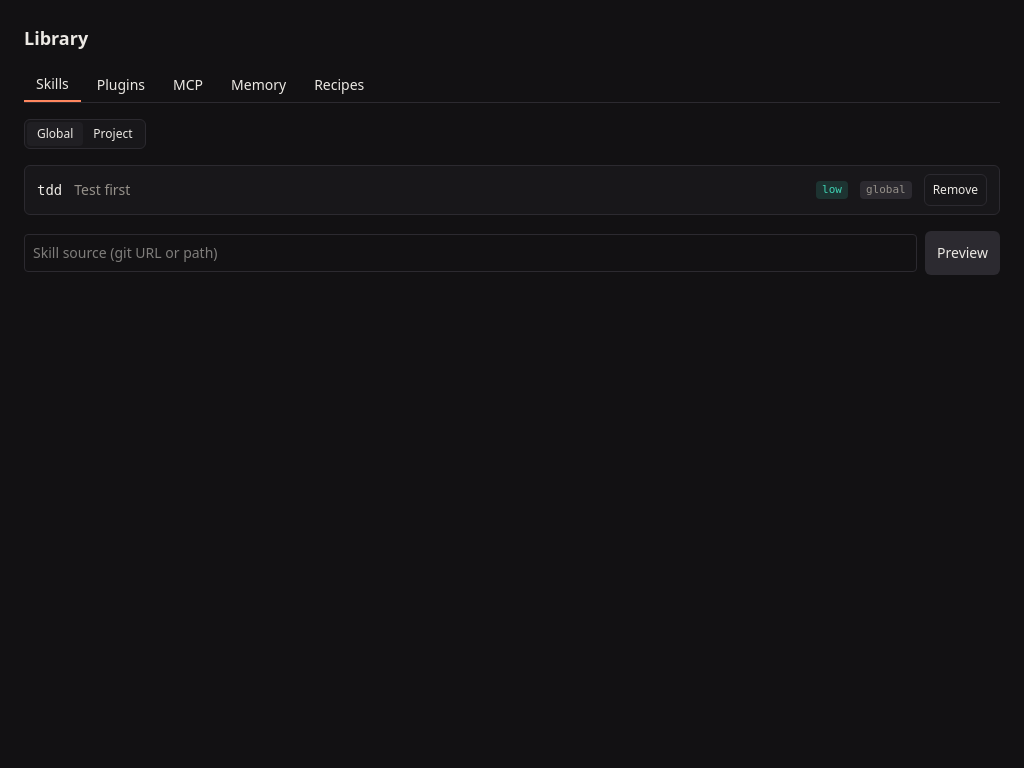
Test: Library skills › previews, then confirms with the token and scope
expect the element with test id "skill-row" is shown: met, box [24,165,1000,215]
Step 1. Type "git@x" into the field labelled "Skill source" → point(471, 253), box [24,234,917,272]
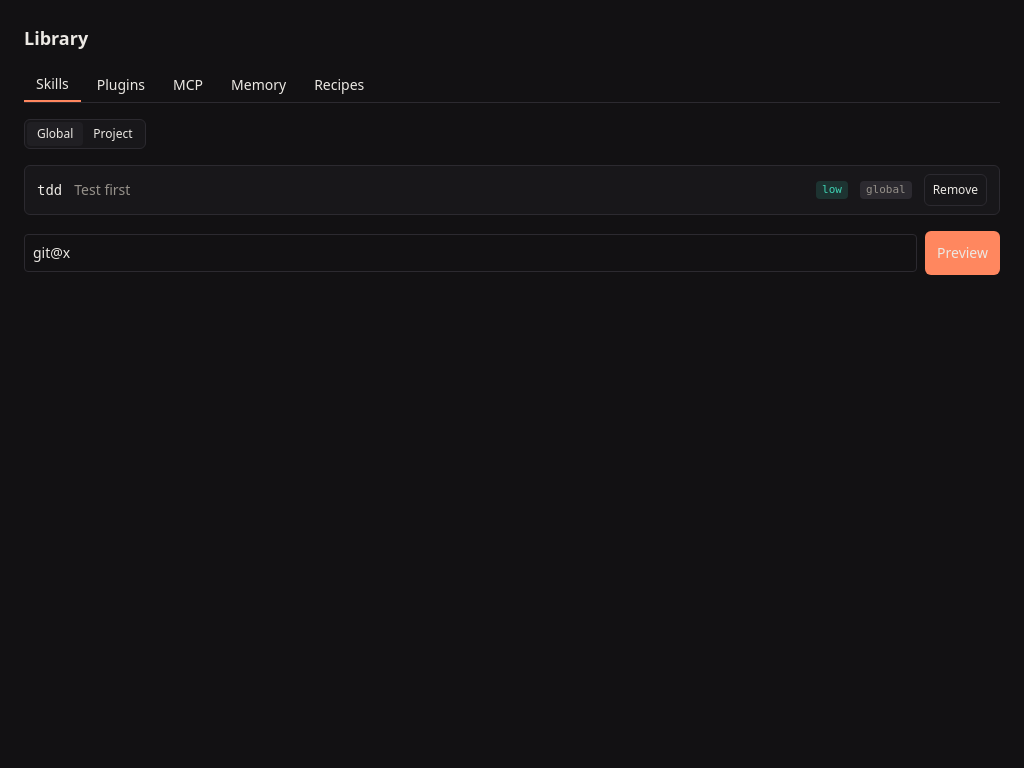
Step 2. Click the button "Preview" → point(963, 253), box [925,231,1000,275]
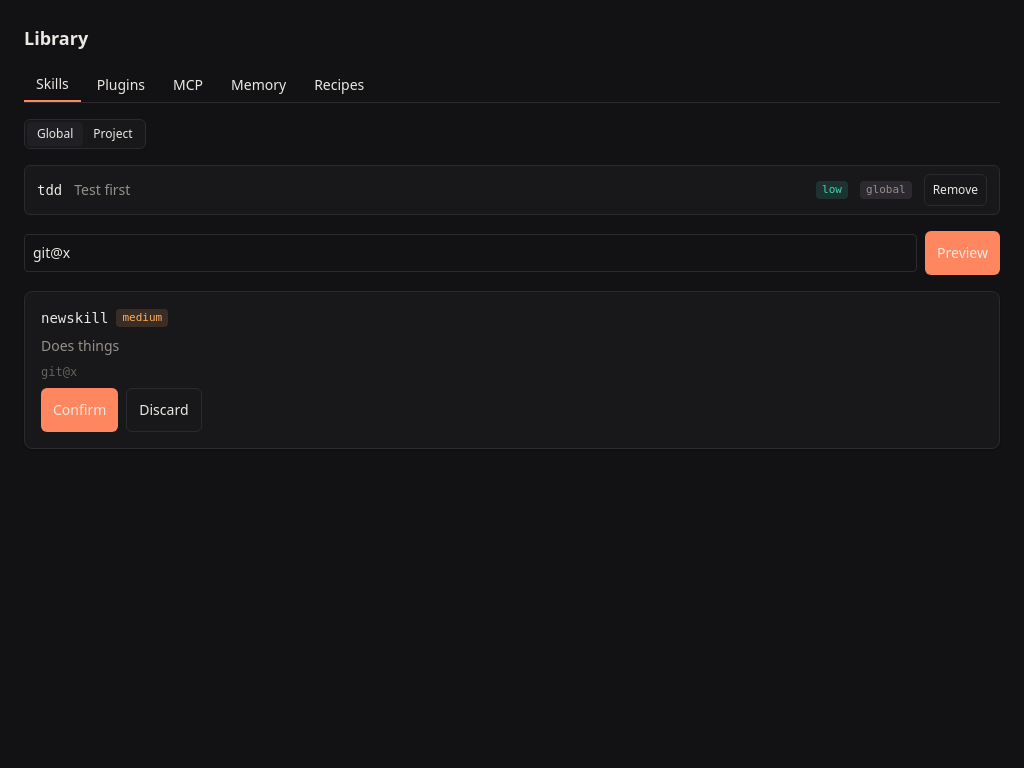
expect the element with test id "skill-preview" is shown: met, box [24,291,1000,449]
Step 3. Click the button "Confirm" → point(80, 410), box [41,388,118,432]
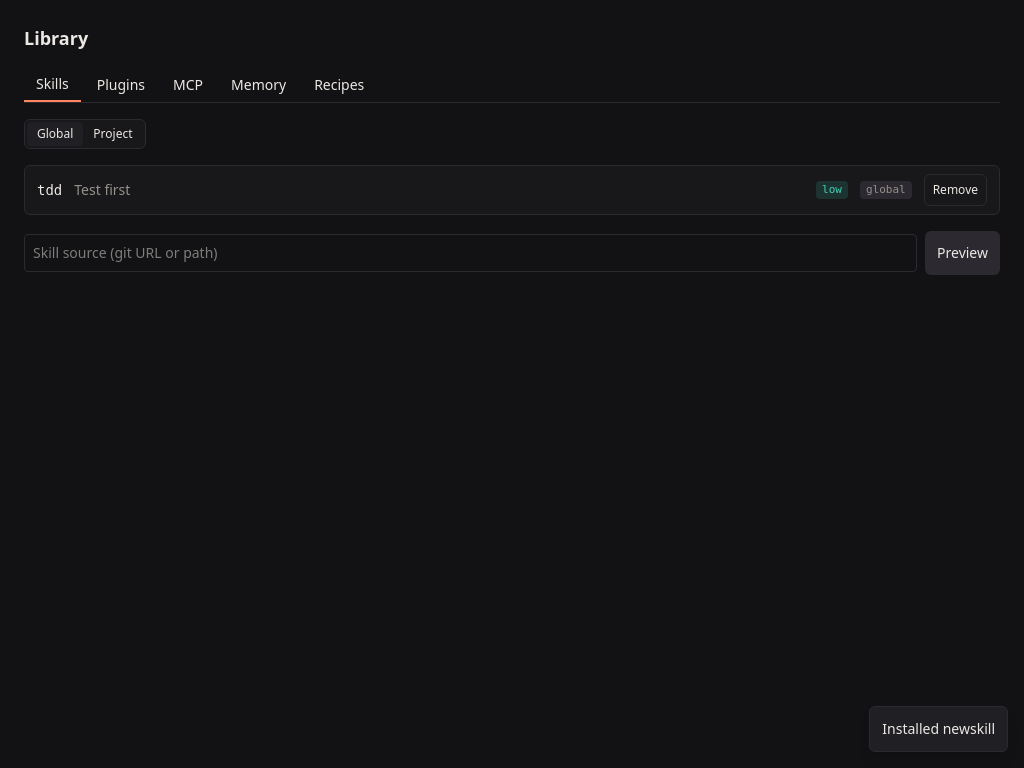
expect the element with test id "skill-preview" is gone: met
